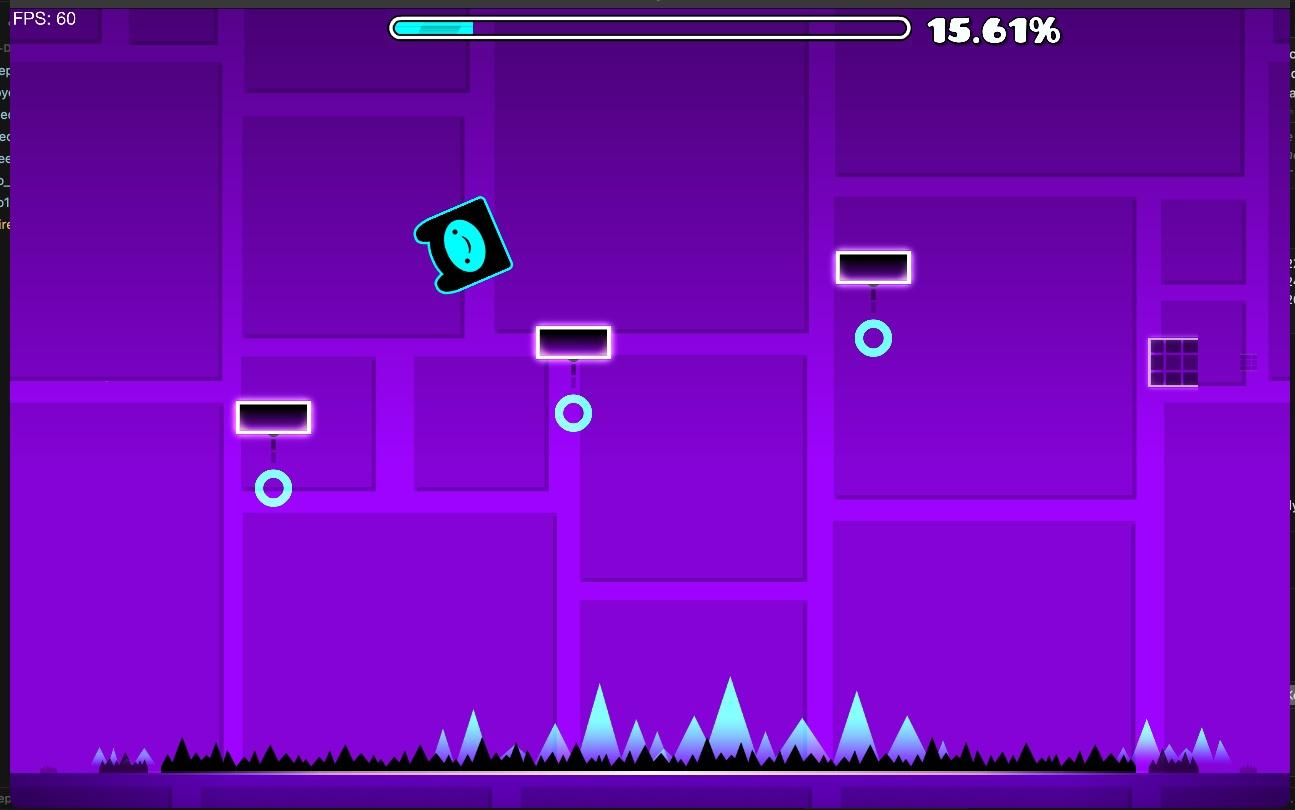platform: (834, 250, 911, 289), (535, 324, 612, 362), (235, 400, 311, 436), (862, 327, 890, 355)
player: (414, 197, 512, 293)
spike: (91, 678, 1236, 773)
